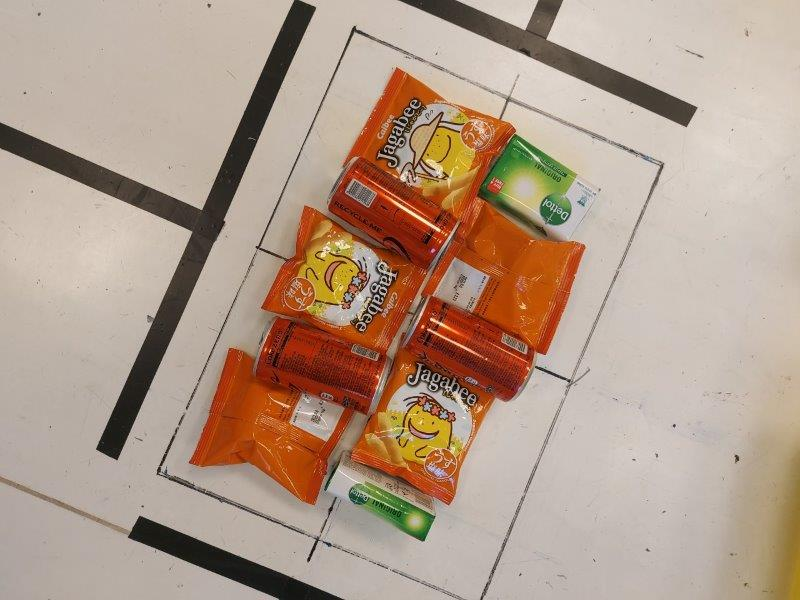Coke: (328, 156, 461, 269), (402, 294, 534, 402), (253, 315, 392, 416)
Dettol: (480, 135, 602, 241), (325, 451, 438, 541)
Jagabee: (344, 68, 515, 222), (190, 349, 355, 506), (265, 206, 430, 358), (423, 200, 584, 355), (353, 334, 496, 507)
